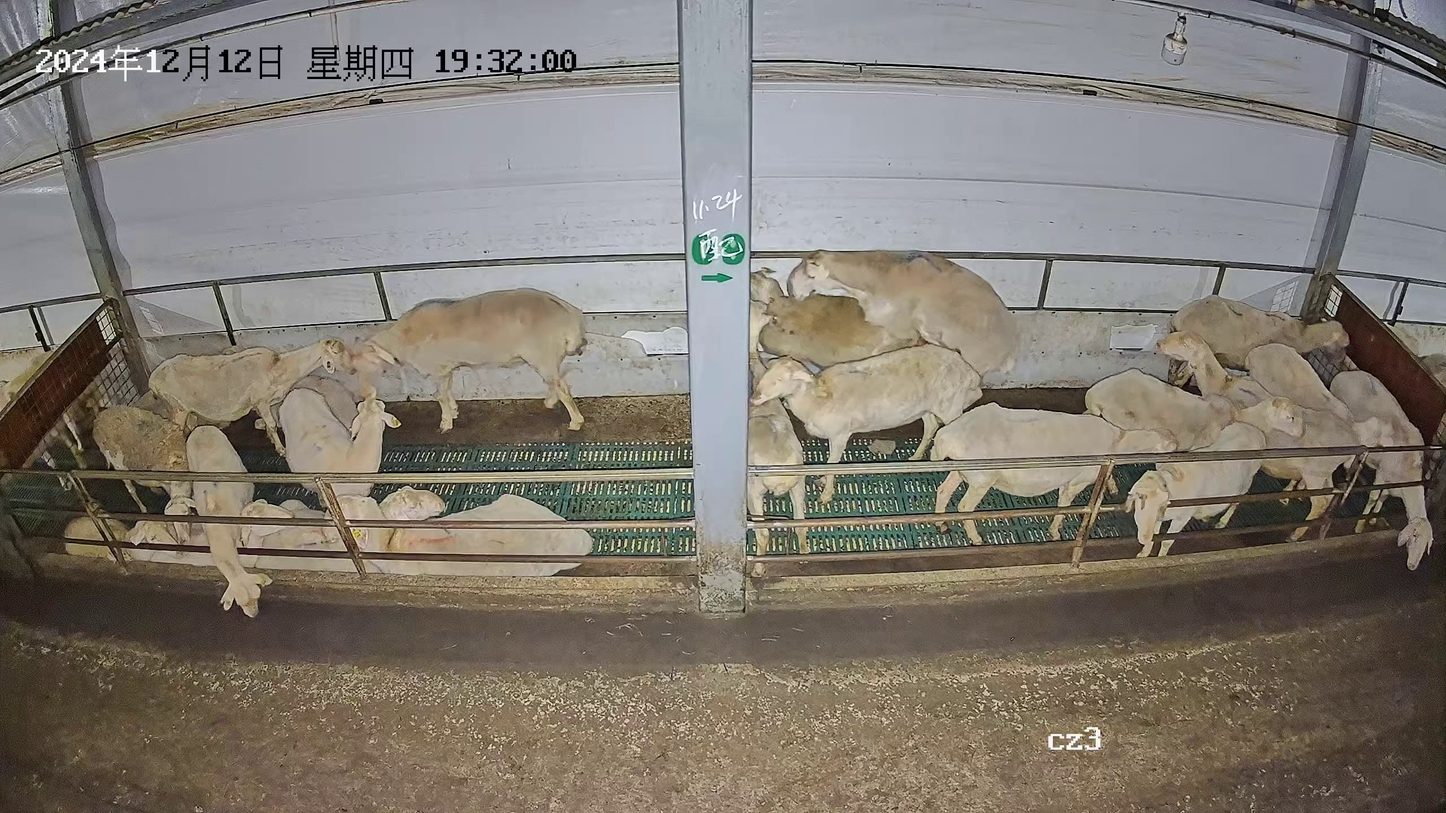Smounting: (746, 247, 1033, 383)
mounted: (749, 266, 923, 369)
